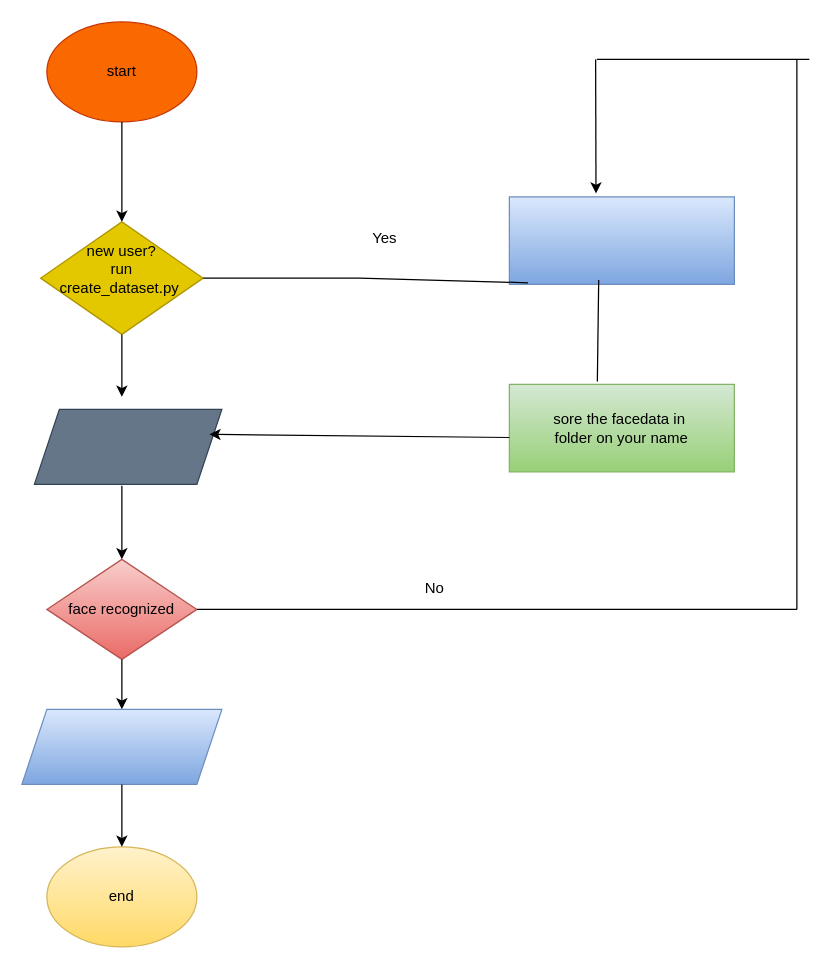
This 833x969 diagram has some shape labels left out. Here are the shapes that lost their labels. From the top down, the centre of each, then its label:
At [621,240]: "give your photograph".
At [127,446]: "recognize the face run face_recognize.py".
At [121,746]: "stored in csv file with regestration number and date.time of entry".
